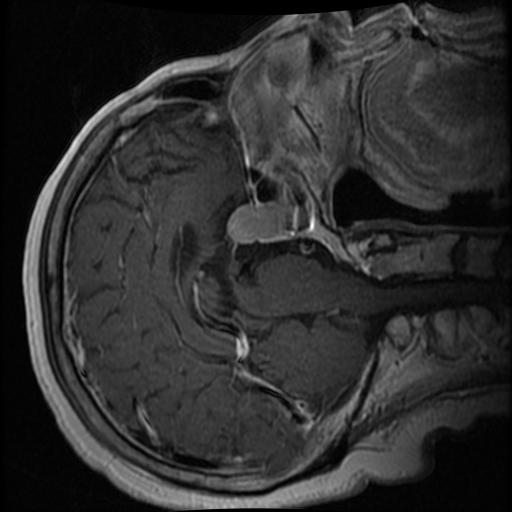pituitary tumour: (227, 202, 287, 243)
